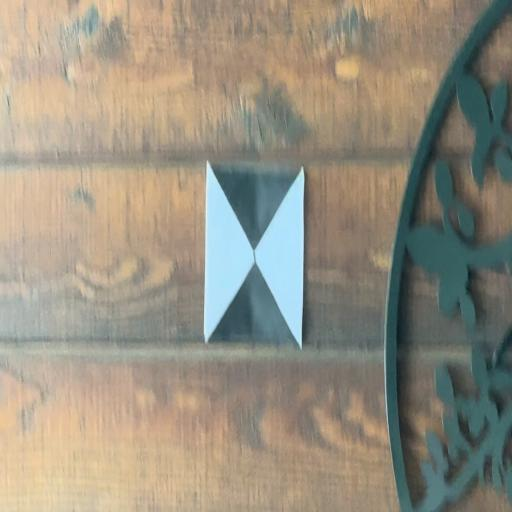target: (207, 162, 302, 346)
